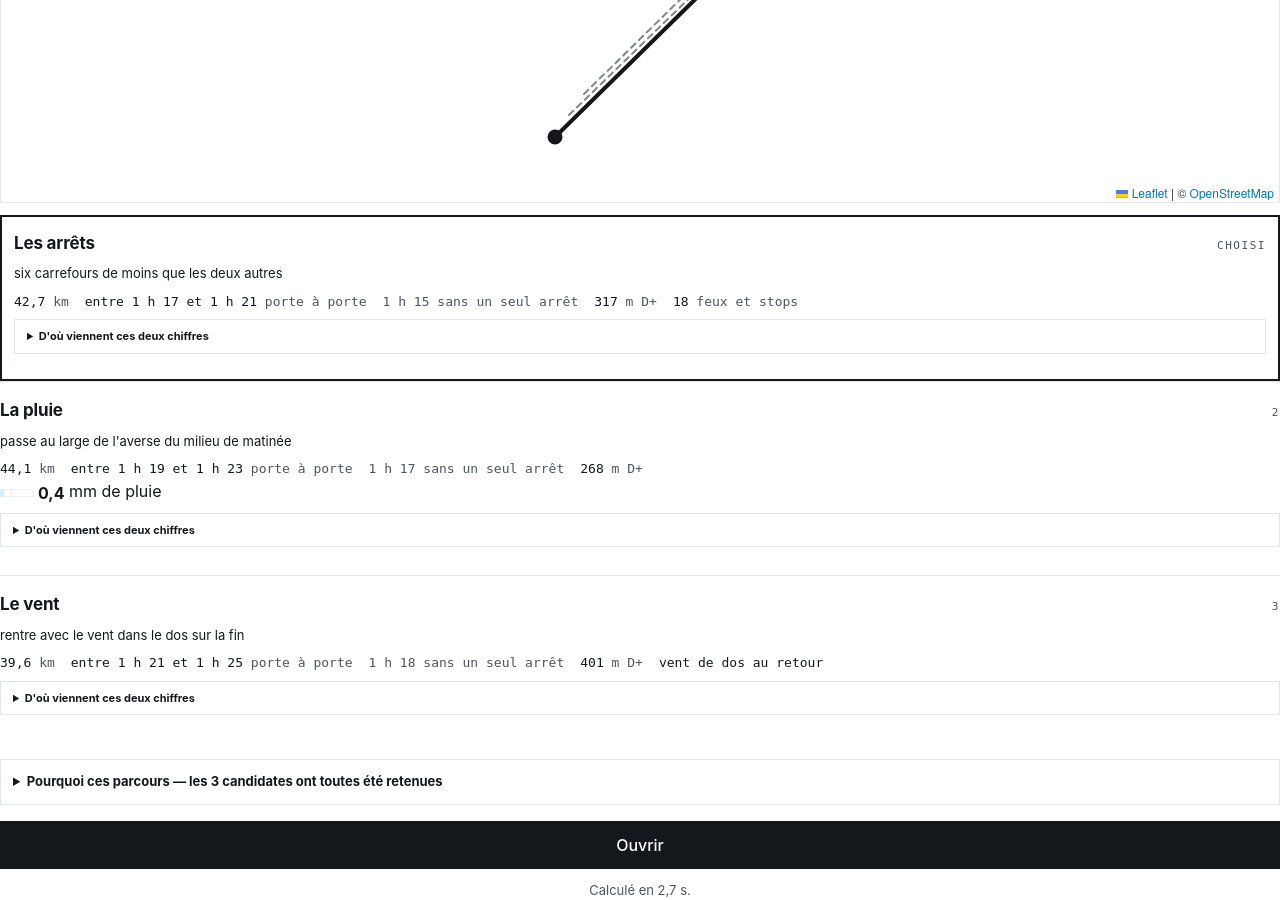
Test: les candidates tombées avant le contraste › se distinguent des écartées du contraste, et disent qu'il n'y a rien à dessiner
(page scrolled)
What coordinates should you click on to do the following:
click the 7th heading
I would click on:
 (235, 781)
Its box is [27, 773, 443, 789].
(page scrolled)
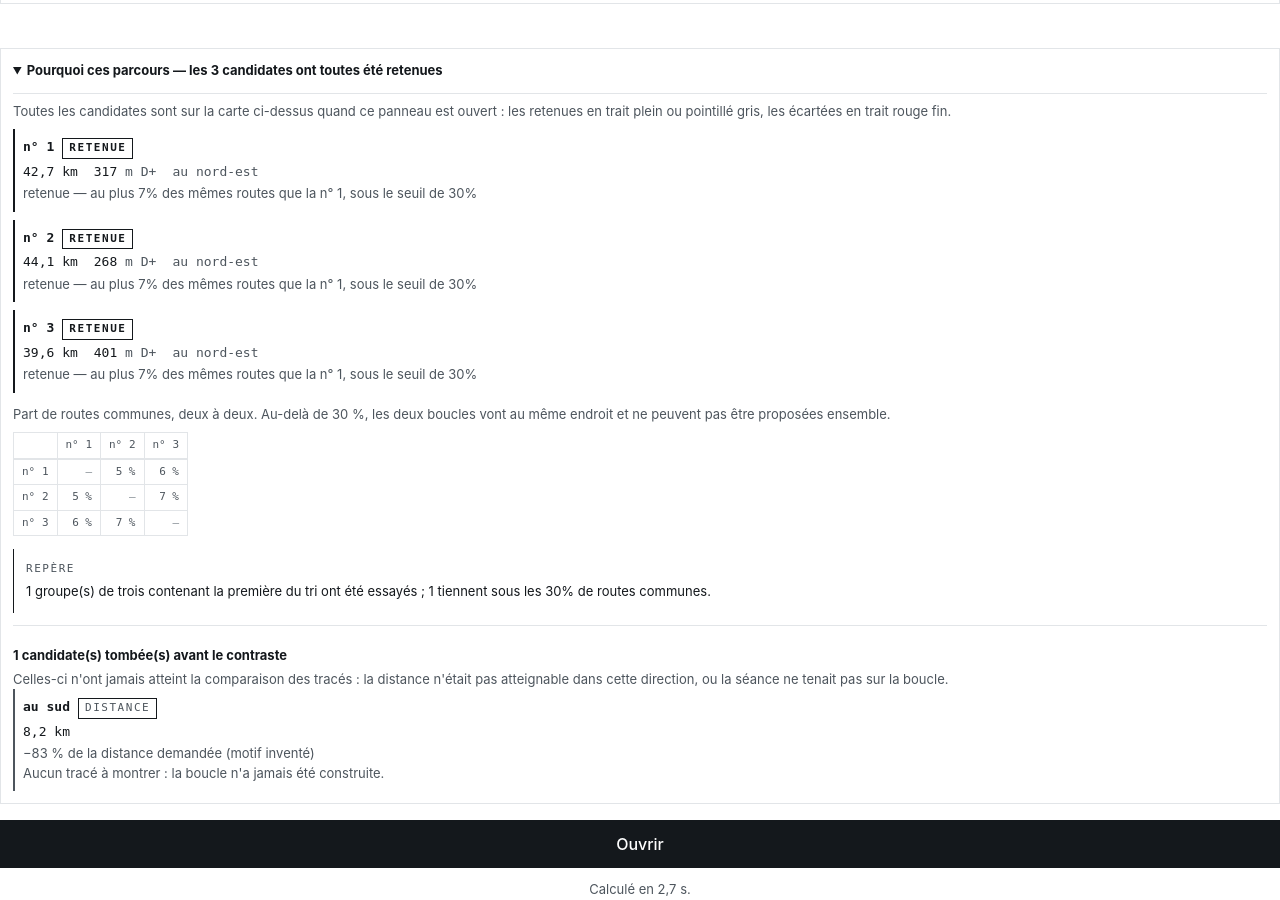
expect the heading "1 candidate(s) tombée(s) avant le contraste" is shown: met, box [13, 647, 287, 663]
expect the text "−83 % de la distance demandée (motif inventé)" is shown: met, box [23, 745, 315, 761]
expect the text "Aucun tracé à montrer : la boucle n'a jamais été construite." is shown: met, box [23, 765, 384, 781]
